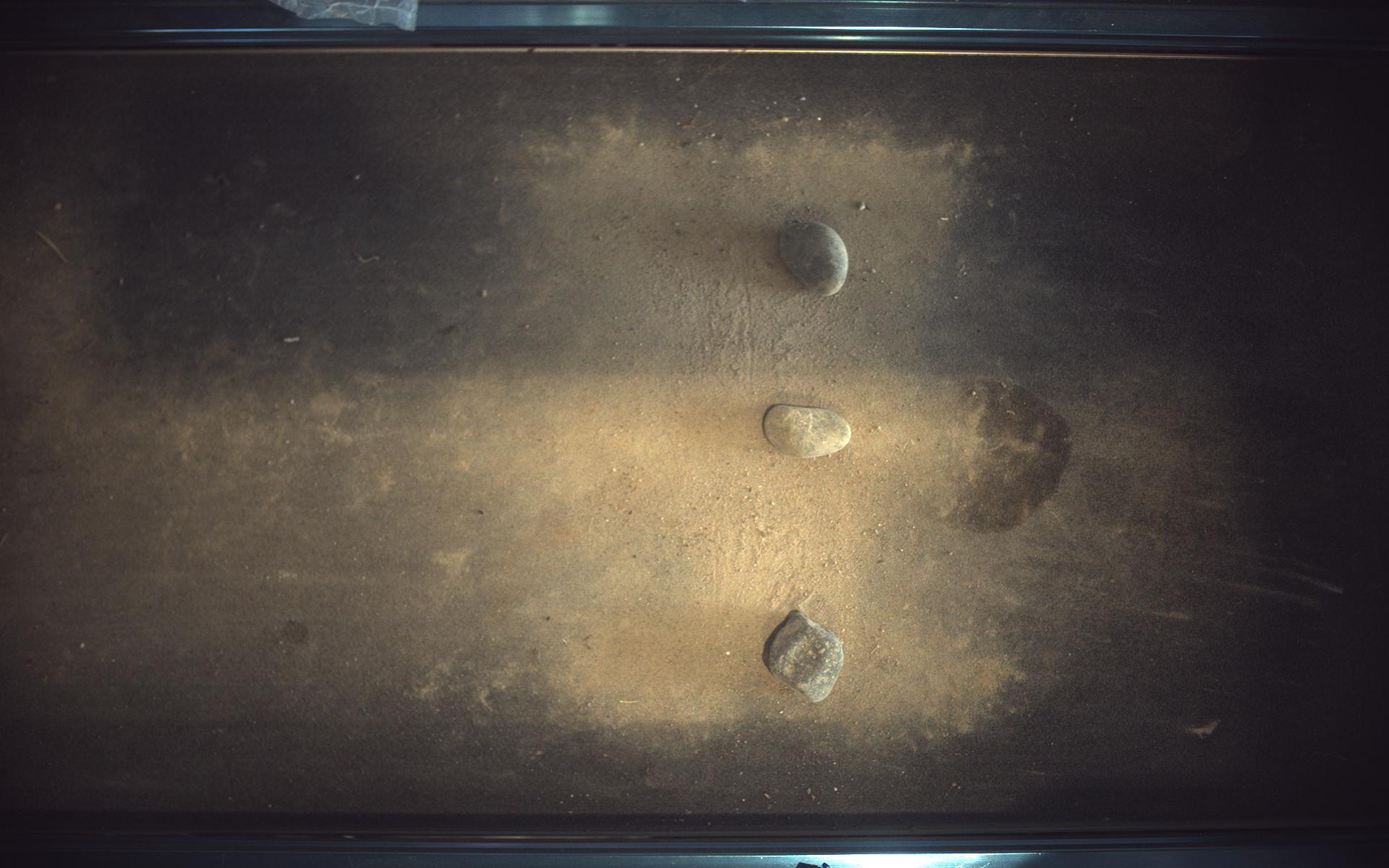stone: (764, 610, 845, 704), (781, 222, 850, 295), (765, 404, 853, 459)
